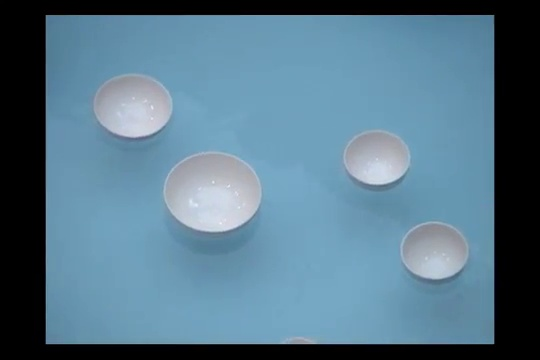bowl: (162, 151, 262, 239), (93, 74, 174, 143), (399, 221, 470, 284), (343, 130, 411, 192)
